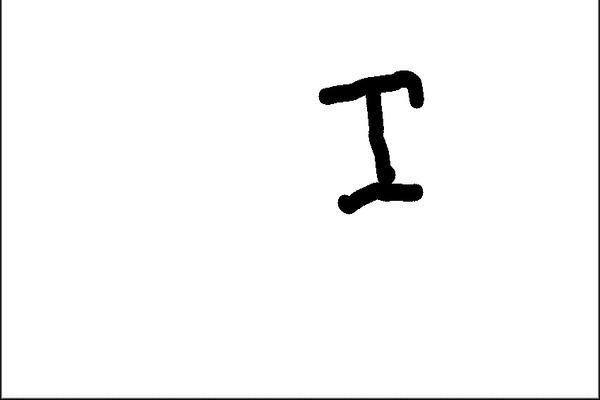i: (311, 63, 436, 216)
